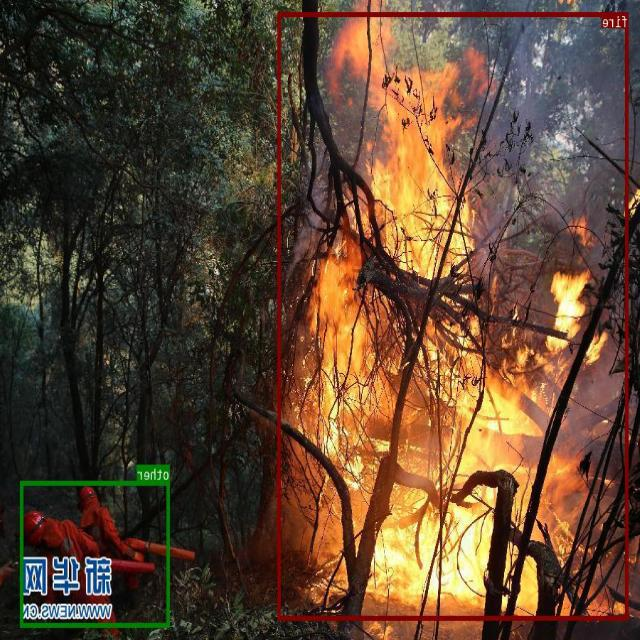fire: (278, 12, 629, 619)
other: (21, 481, 170, 626)
